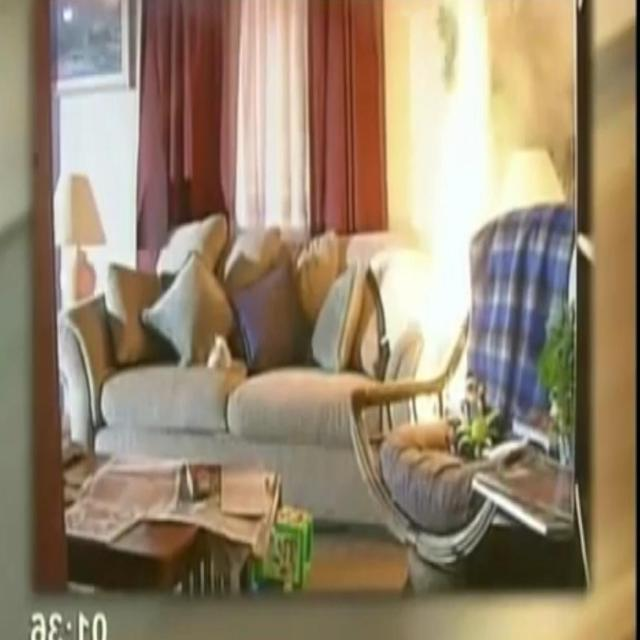smoke: (413, 0, 496, 421)
